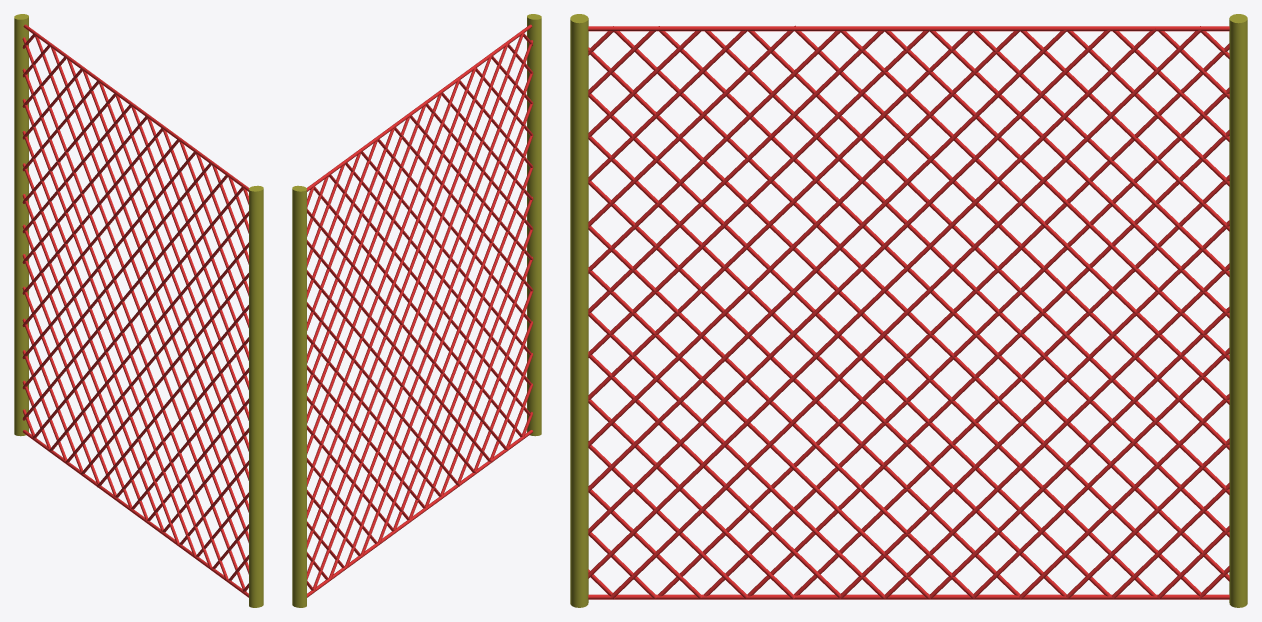
The model's file is Fence (High Poly) (V2).FBX.
3 views of the same model, side by side, from view 1: azimuth 30°, elevation 25°; view 2: azimuth 150°, elevation 25°; view 3: azimuth 270°, elevation 25° (orthographic). The views are drawn at different scales.
Parts seen in each view (by area): view 1: Fence_002; view 2: Fence_002; view 3: Fence_002.
Boxes of the visible parts, x1,y1,x2,y2 form: Fence_002: [14, 14, 263, 607]; Fence_002: [292, 14, 541, 607]; Fence_002: [570, 14, 1247, 607].
Size of the model in its own units: 10.08 by 298 by 313.
